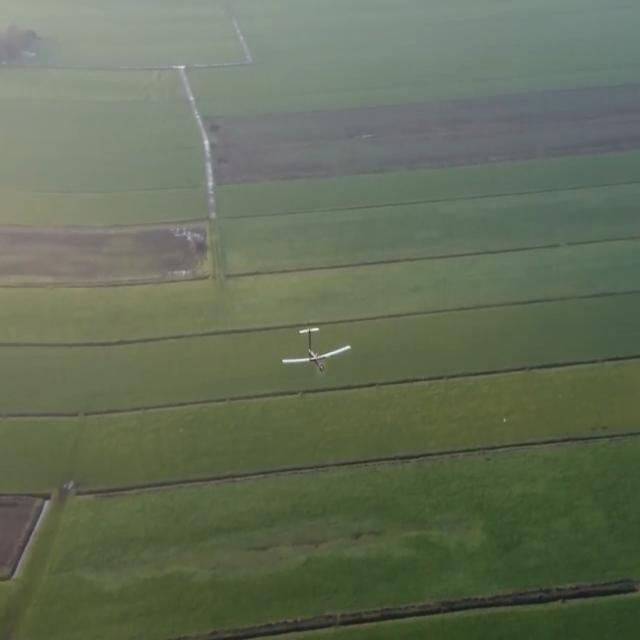iha: (315, 321, 320, 378)
